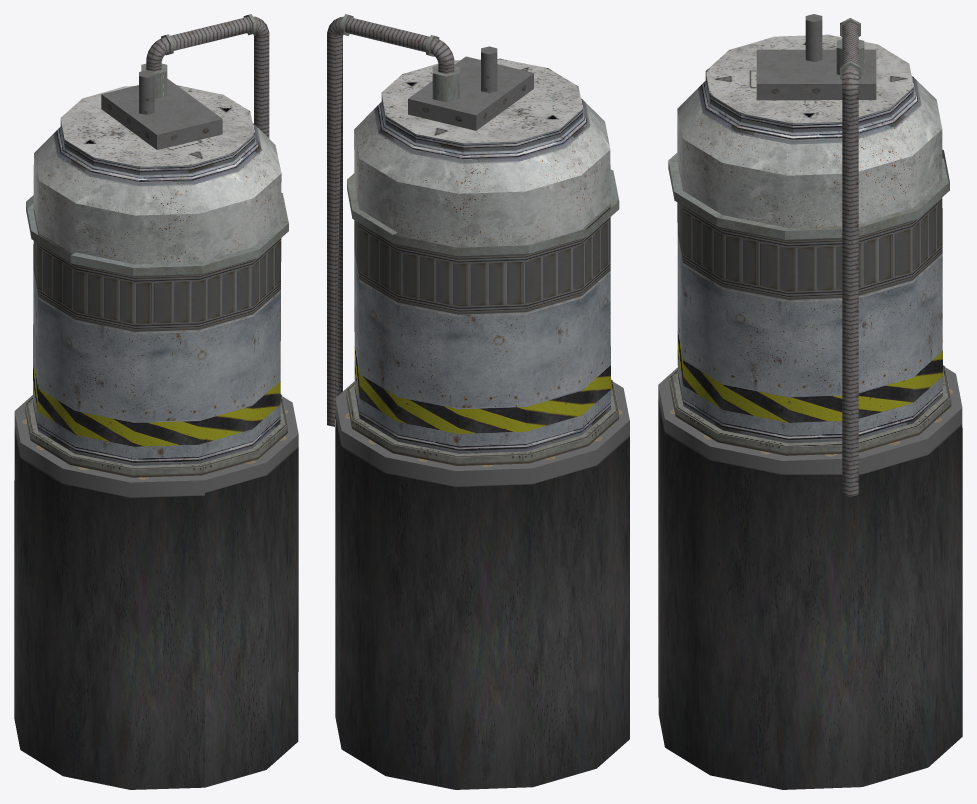
Rendered from Ob_Transformer3_RC.fbx.
3 renders of one model, left to right at view 1: azimuth 30°, elevation 25°; view 2: azimuth 150°, elevation 25°; view 3: azimuth 270°, elevation 25°, orthographic. The views are drawn at different scales.
Visible parts, largest first — view 1: Ob_Transformer3_RC; view 2: Ob_Transformer3_RC; view 3: Ob_Transformer3_RC.
Part boxes in pixels (left/top/right/bottom): Ob_Transformer3_RC: left=14, top=14, right=298, bottom=789; Ob_Transformer3_RC: left=327, top=14, right=629, bottom=789; Ob_Transformer3_RC: left=658, top=14, right=962, bottom=789.
Size of the model in its own units: 2531 by 6417 by 2448.
